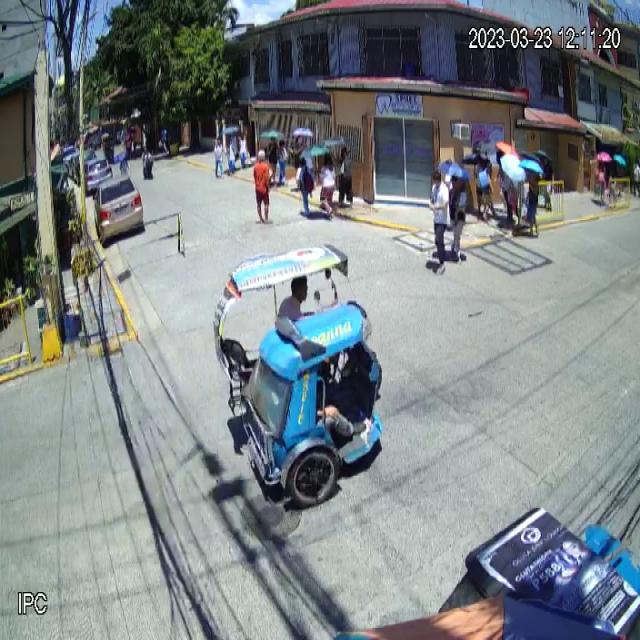Tricycle: (213, 241, 384, 508)
